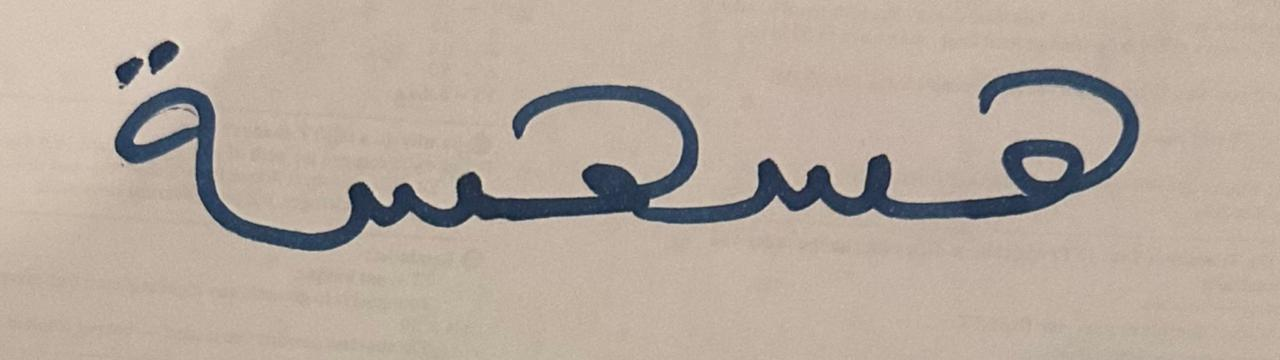jeem: (925, 25, 1174, 262), (492, 42, 720, 262)
sheen: (282, 87, 489, 276), (723, 71, 921, 263)
thal: (91, 30, 278, 308)
